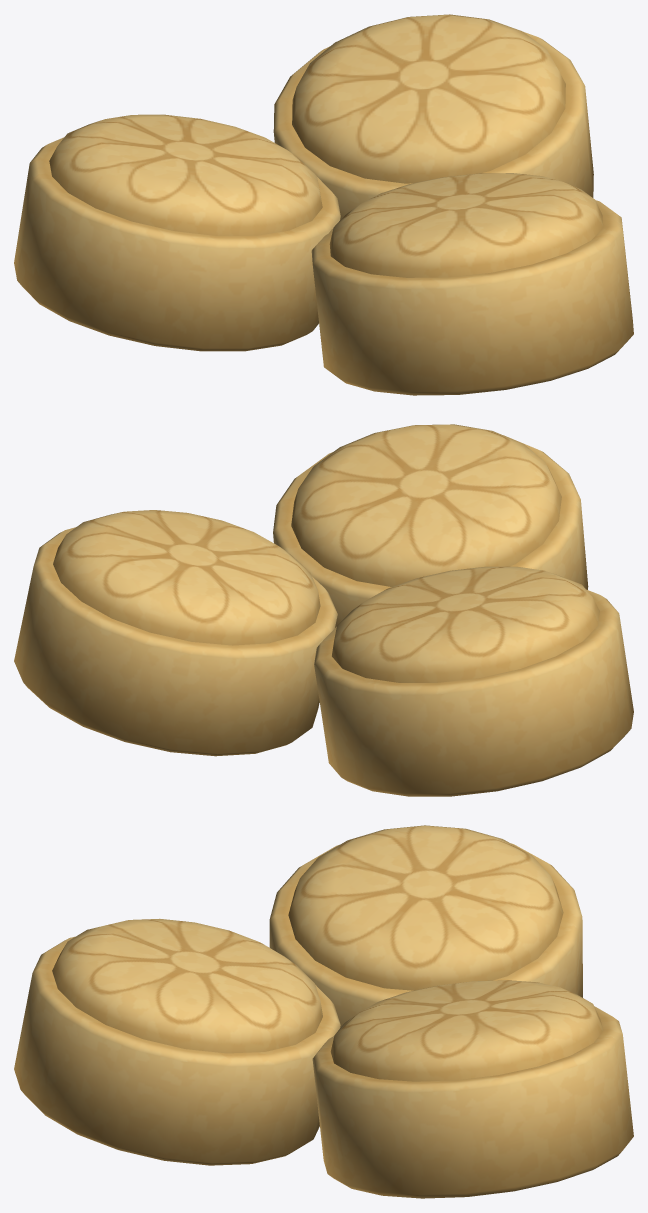
Rendered from Plate04.fbx.
3 renders of one model, top to bottom at view 1: azimuth 30°, elevation 25°; view 2: azimuth 150°, elevation 25°; view 3: azimuth 270°, elevation 25°, orthographic.
Visible parts, largest first — view 1: Dessert04Plate; view 2: Dessert04Plate; view 3: Dessert04Plate.
Part boxes in pixels (x1,y1,x2,y2): Dessert04Plate: (14, 14, 633, 395); Dessert04Plate: (14, 424, 633, 796); Dessert04Plate: (14, 825, 633, 1198).
Bounding box in the file's own units: 21.56 × 6.57 × 20.68.
1 material, 1 textured.
